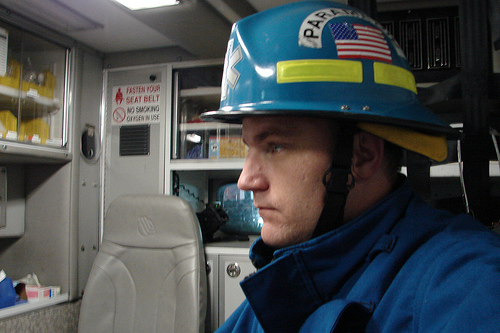helmet: (218, 14, 457, 132)
